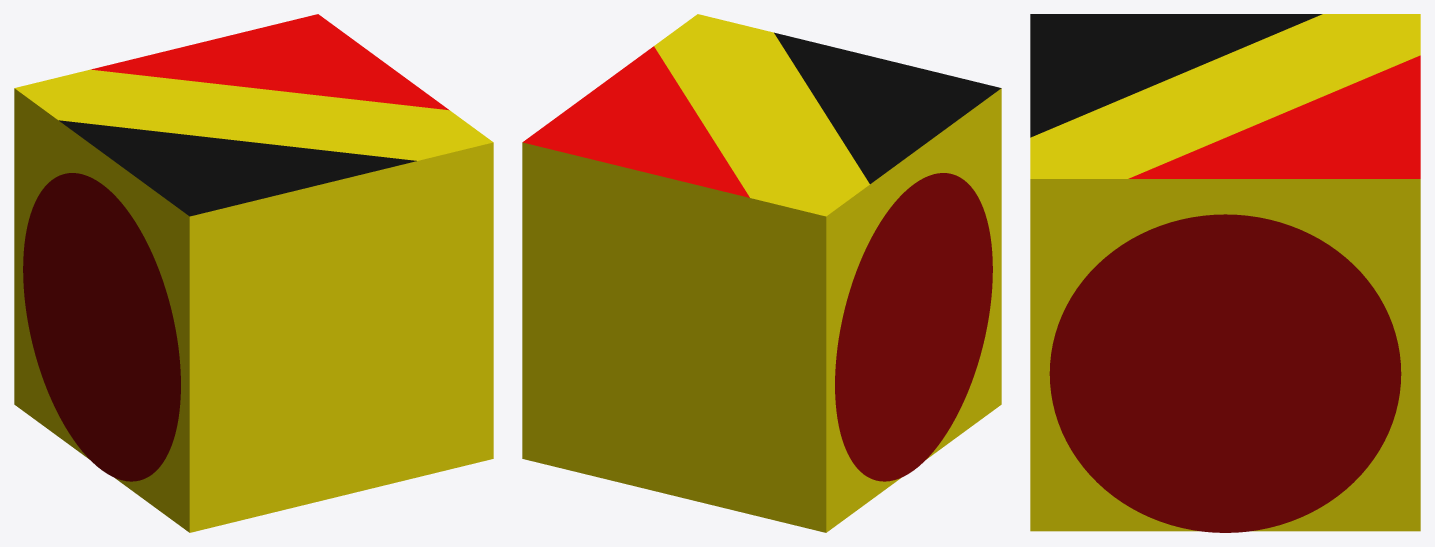
File: Yellow0.FBX
The picture shows the model from 3 angles, left to right: view 1: azimuth 30°, elevation 25°; view 2: azimuth 150°, elevation 25°; view 3: azimuth 270°, elevation 25°; orthographic projection. The views are drawn at different scales.
Parts seen in each view (by area): view 1: Body, WheelR; view 2: Body, WheelR; view 3: Body, WheelL.
Part boxes in pixels (box(x1,y1,x2,y2)): Body: box(14, 14, 493, 532); WheelR: box(23, 173, 180, 481); Body: box(522, 14, 1001, 532); WheelR: box(835, 173, 992, 481); Body: box(1030, 14, 1420, 531); WheelL: box(1049, 214, 1401, 532).
Bounding box in the file's own units: 7.87 × 7.87 × 7.87.
